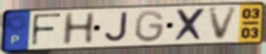F: (30, 12, 64, 48)
G: (133, 9, 167, 44)
H: (60, 11, 98, 48)
J: (103, 11, 129, 44)
V: (207, 5, 241, 43)
X: (174, 7, 208, 43)
